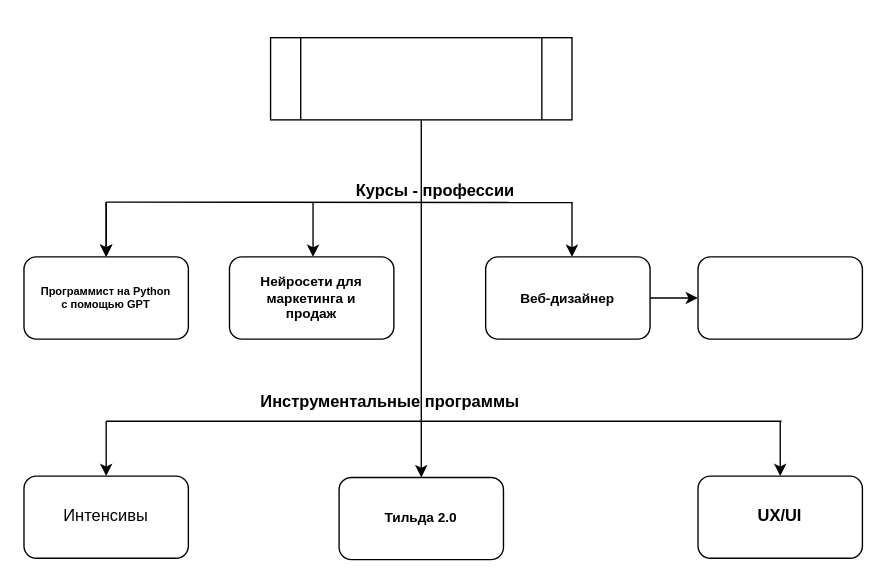
Image size: 886x584. Some labels were removed from this diagram. Here are the shapes that lost their labels. From the top down, the centre of each, then its label:
the point at 420,78: Схема обучения по no-code разработке в Университете Зерокодер.
the point at 779,297: Разработчик мобильных приложений
